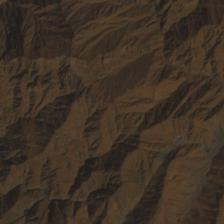landslides: (61, 167, 73, 179), (119, 200, 127, 217)
